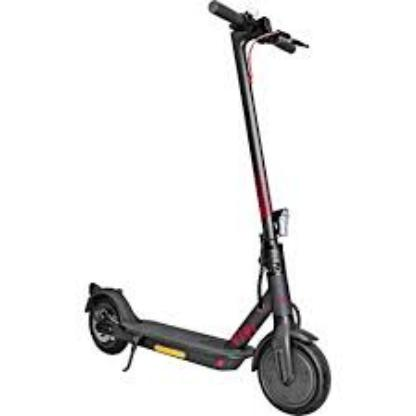bike: (83, 8, 334, 416), (84, 206, 332, 416)
